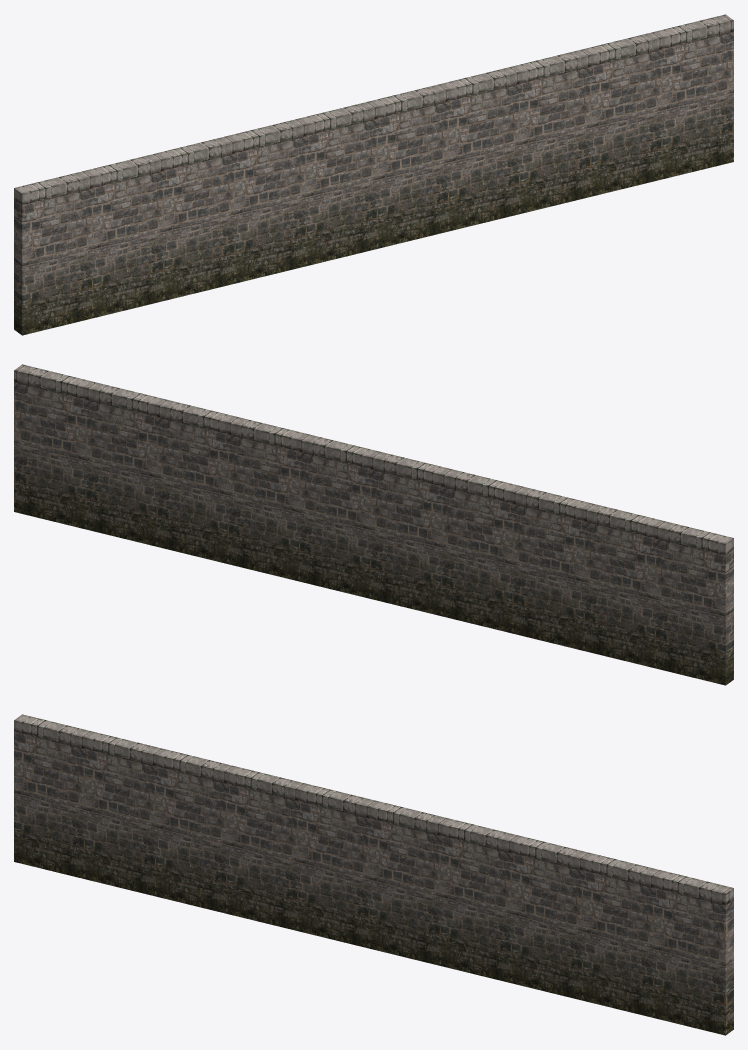
The model's file is TallWallStone_100.fbx.
3 views of the same model, one above another, from view 1: azimuth 30°, elevation 25°; view 2: azimuth 150°, elevation 25°; view 3: azimuth 330°, elevation 25° (orthographic).
Parts seen in each view (by area): view 1: lod_high; view 2: lod_high; view 3: lod_high.
Part boxes in pixels (x1,y1,x2,y2): lod_high: (14, 14, 733, 335); lod_high: (14, 364, 733, 685); lod_high: (14, 714, 733, 1035).
Size of the model in its own units: 10001 by 1900 by 202.
Materials: 1 (1 with a texture image).
